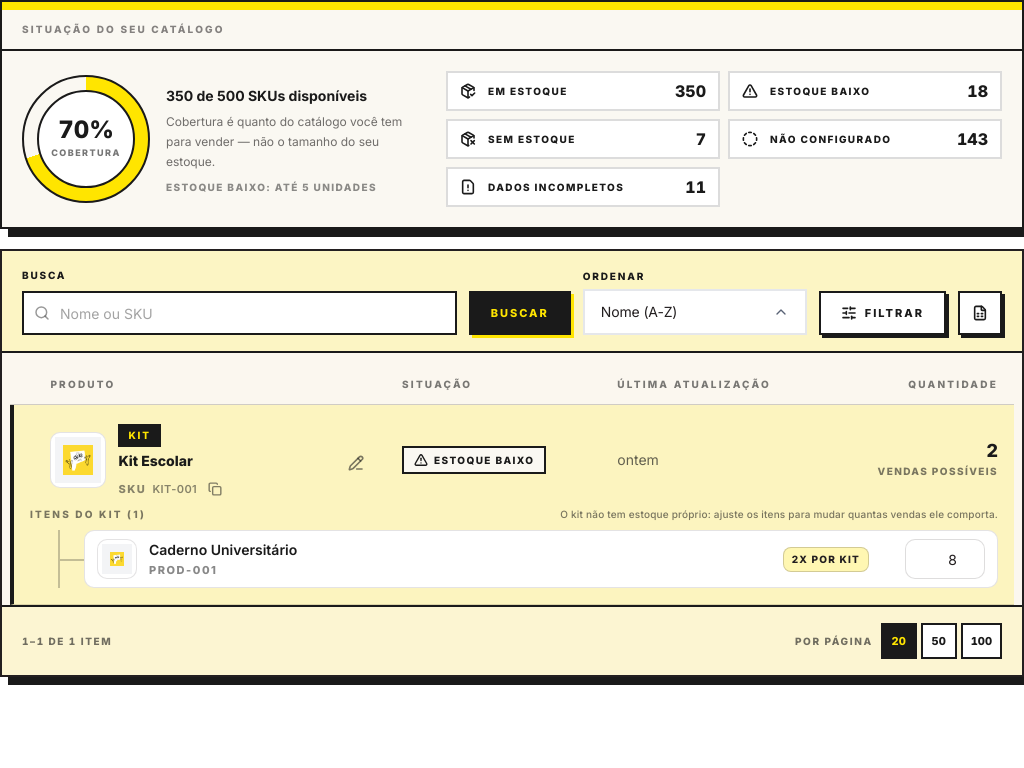
Scenario: VendorStockManager descrição › abre kit pelo produto comercial, sem saldo de kit
Click the button named "Editar Kit Escolar" at (356, 463), box x1=338 y1=445 x2=374 y2=481
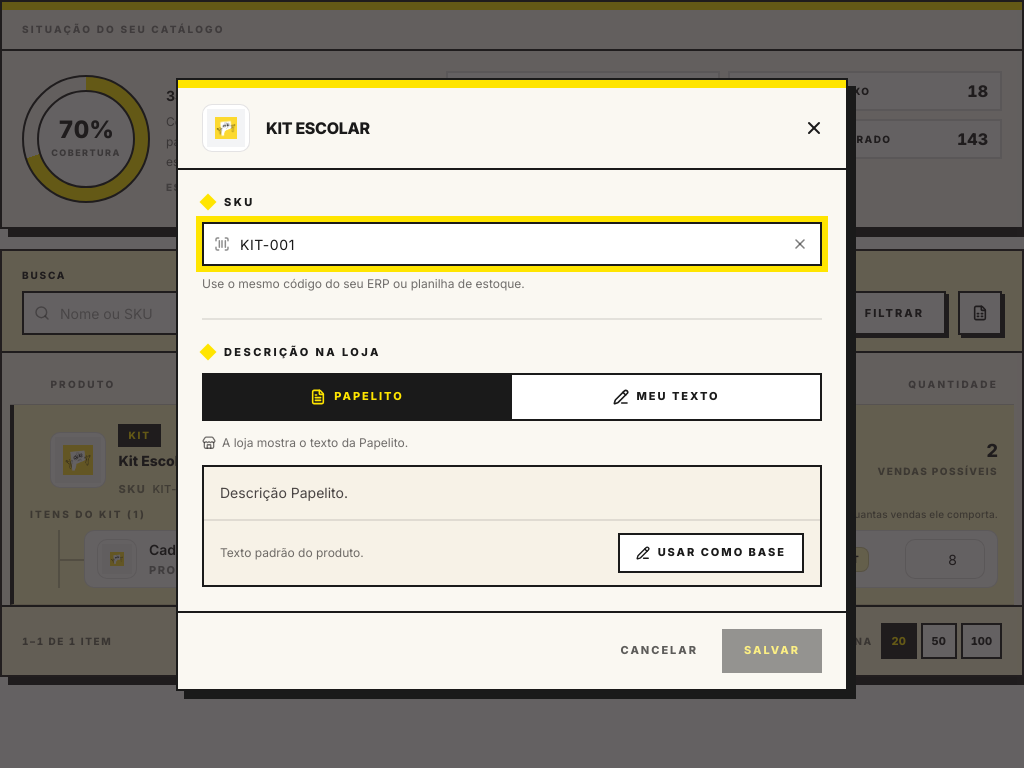
Expected: the radio button labelled "Papelito" is shown, x1=204 y1=374 x2=512 y2=418
